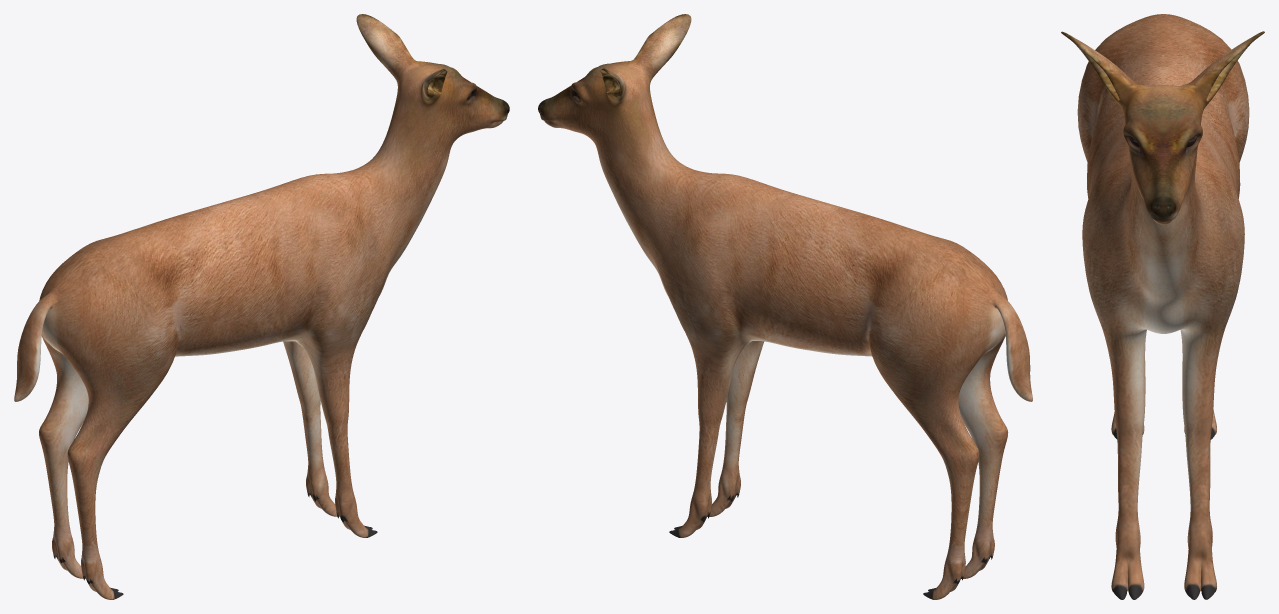
File: rusa-ekor-putih.glb
3 views of the same model, side by side, from view 1: azimuth 30°, elevation 25°; view 2: azimuth 150°, elevation 25°; view 3: azimuth 270°, elevation 25° (orthographic). The views are drawn at different scales.
Parts seen in each view (by area): view 1: 12961_White-Tailed_Deer_v1_l2; view 2: 12961_White-Tailed_Deer_v1_l2; view 3: 12961_White-Tailed_Deer_v1_l2.
Boxes of the visible parts, x1=… form: 12961_White-Tailed_Deer_v1_l2: x1=14, y1=14, x2=509, y2=599; 12961_White-Tailed_Deer_v1_l2: x1=538, y1=14, x2=1032, y2=599; 12961_White-Tailed_Deer_v1_l2: x1=1061, y1=14, x2=1264, y2=599.
Bounding box in the file's own units: 8.87 × 8.03 × 2.5.
1 material, 1 textured.
